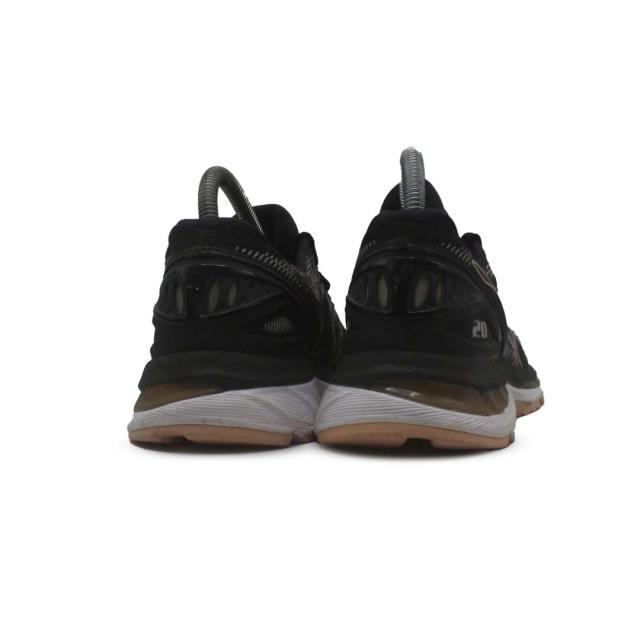heel: (144, 223, 306, 376), (336, 214, 487, 377)
midsole: (315, 370, 545, 439), (126, 371, 318, 448)
